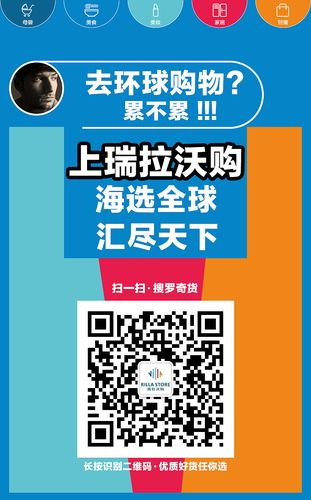QRCode: (81, 307, 229, 454)
